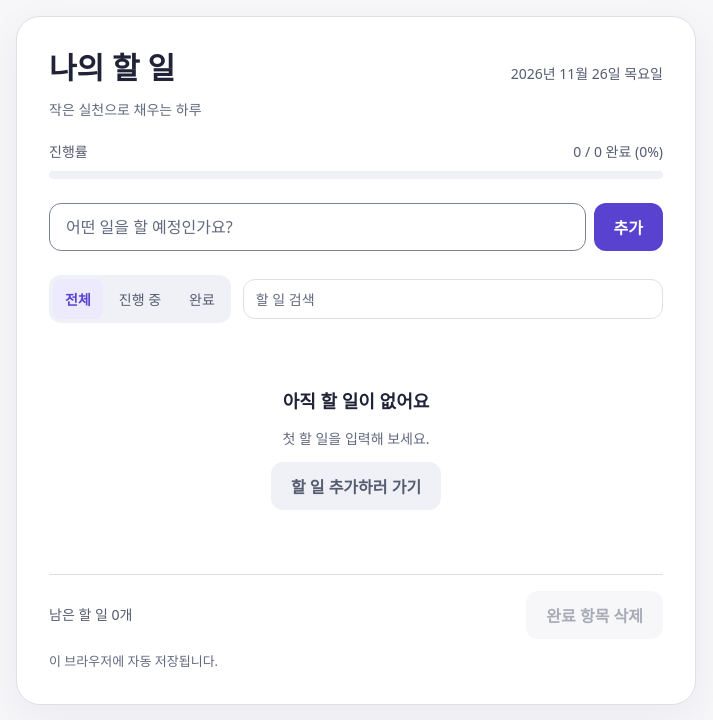
it: App 통합 및 접근성 테스트 › 완료 체크박스 토글 시 취소선 스타일과 통계가 갱신된다
Type "체크박스 테스트" into the field with placeholder "어떤 일을 할 예정인가요?".
click(317, 227); type("체크박스 테스트")  # box [49, 203, 586, 251]
Then press Enter
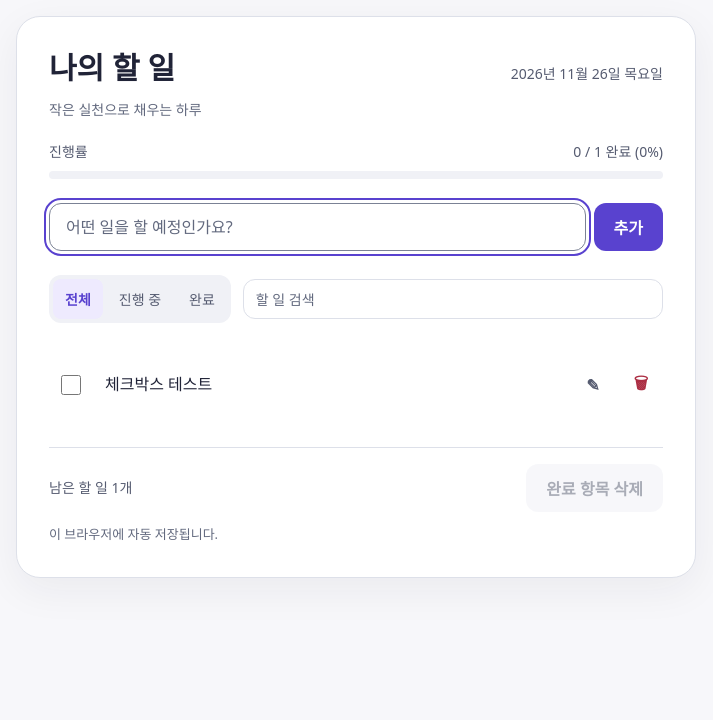
expect the checkbox labelled "체크박스 테스트" is not checked: met
Click the checkbox labelled "체크박스 테스트".
click(71, 385)  # box [61, 375, 81, 395]
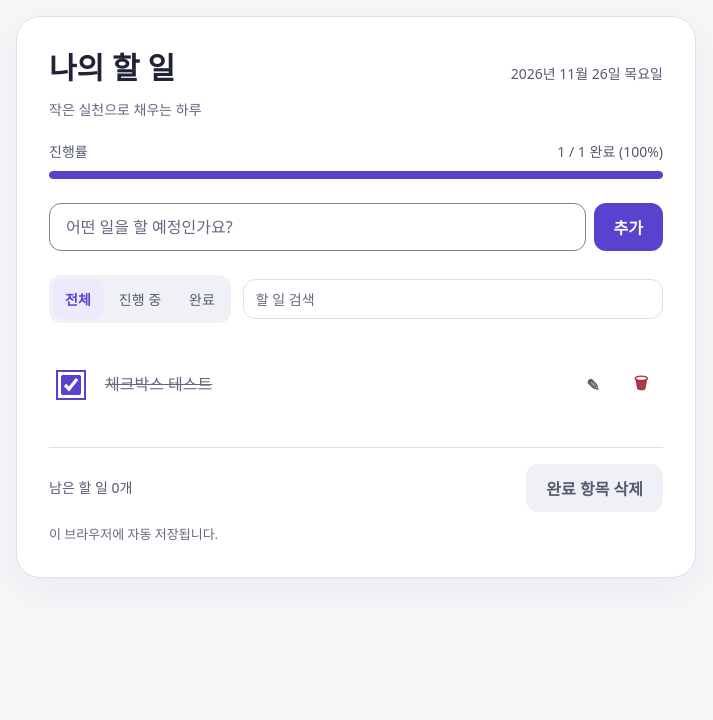
expect the checkbox labelled "체크박스 테스트" is checked: met, box [61, 375, 81, 395]
expect the text "1 / 1 완료 (100%)" is shown: met, box [557, 141, 663, 163]
